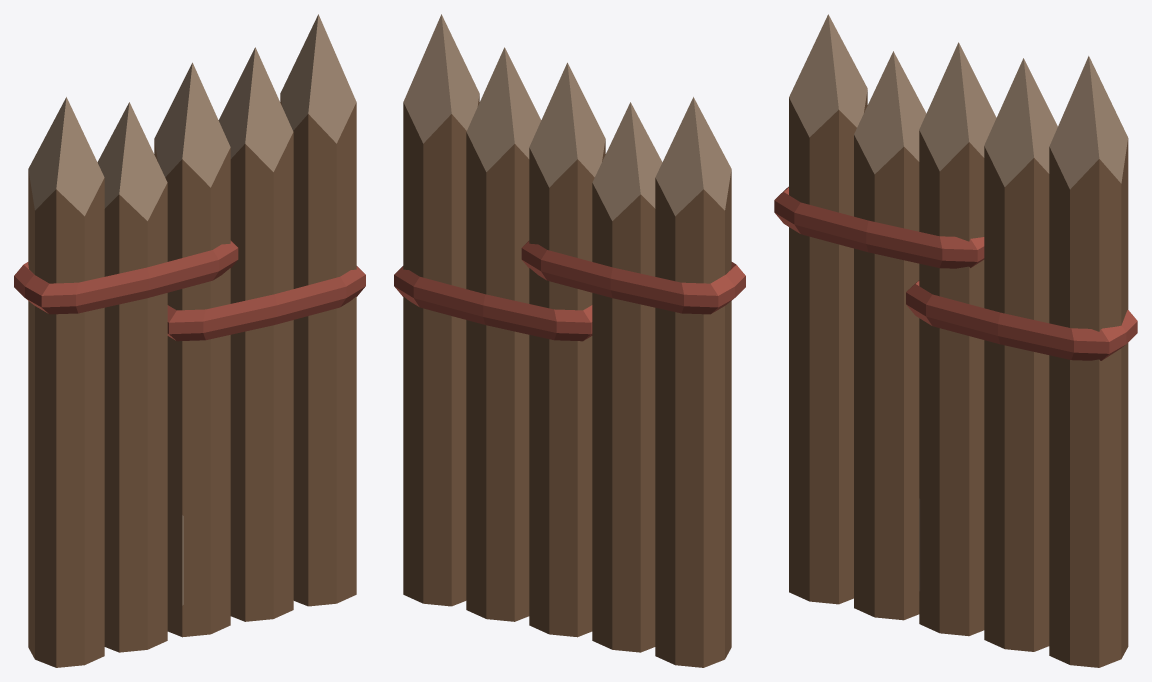
The model's file is 3D_Model_Pillar_straight_LP_v2.fbx.
The picture shows the model from 3 angles, left to right: view 1: azimuth 30°, elevation 25°; view 2: azimuth 150°, elevation 25°; view 3: azimuth 330°, elevation 25°; orthographic projection. The views are drawn at different scales.
Parts seen in each view (by area): view 1: straight_wall; view 2: straight_wall; view 3: straight_wall.
Boxes of the visible parts, x1,y1,x2,y2 form: straight_wall: (14,14,365,667); straight_wall: (394,14,745,667); straight_wall: (774,14,1137,667).
Bounding box in the file's own units: 236 × 394 × 56.87.
